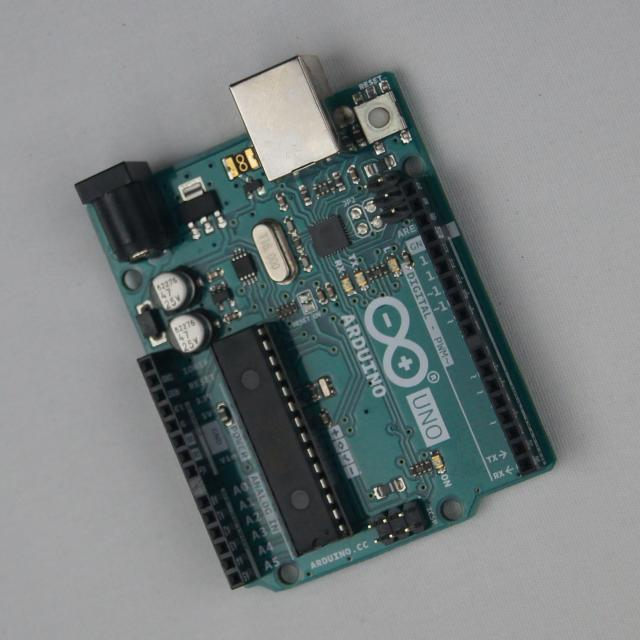Arduino Uno -Green-: (76, 57, 555, 590)
